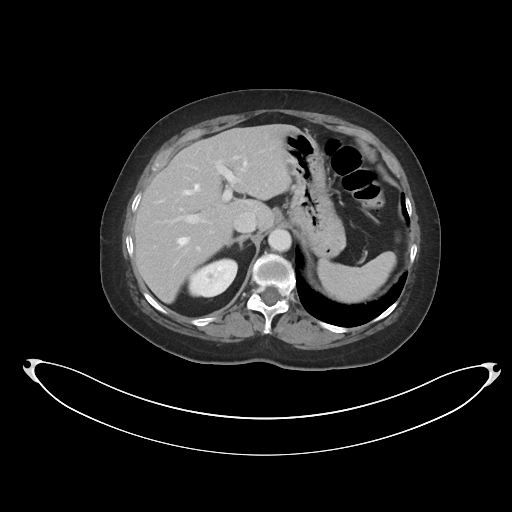Lesion: (201, 270, 216, 284)
